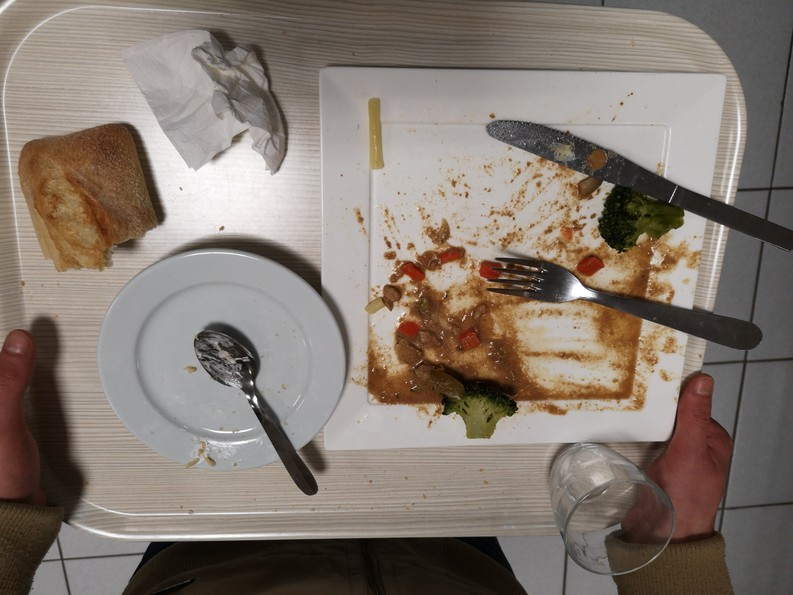cup: (542, 431, 685, 594)
cutlery: (476, 101, 793, 243), (483, 248, 765, 357), (190, 326, 320, 502)
orga: (12, 126, 166, 279), (392, 257, 498, 384), (601, 181, 688, 265), (444, 384, 513, 442)
trash: (117, 28, 296, 185)
